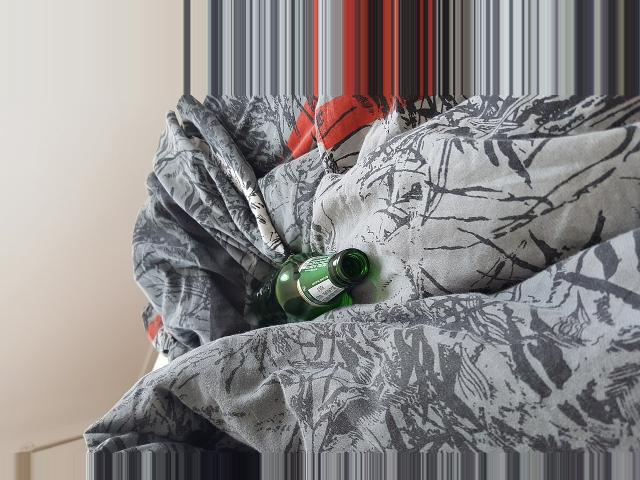beer: (253, 251, 370, 320)
